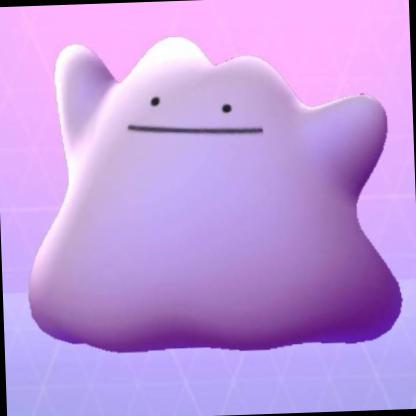Ditto: (1, 20, 416, 416)
